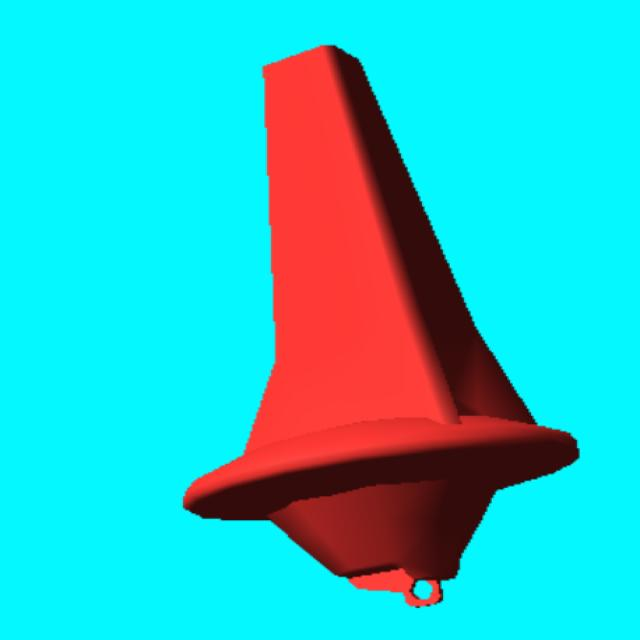RedBuoy: (183, 46, 578, 606)
